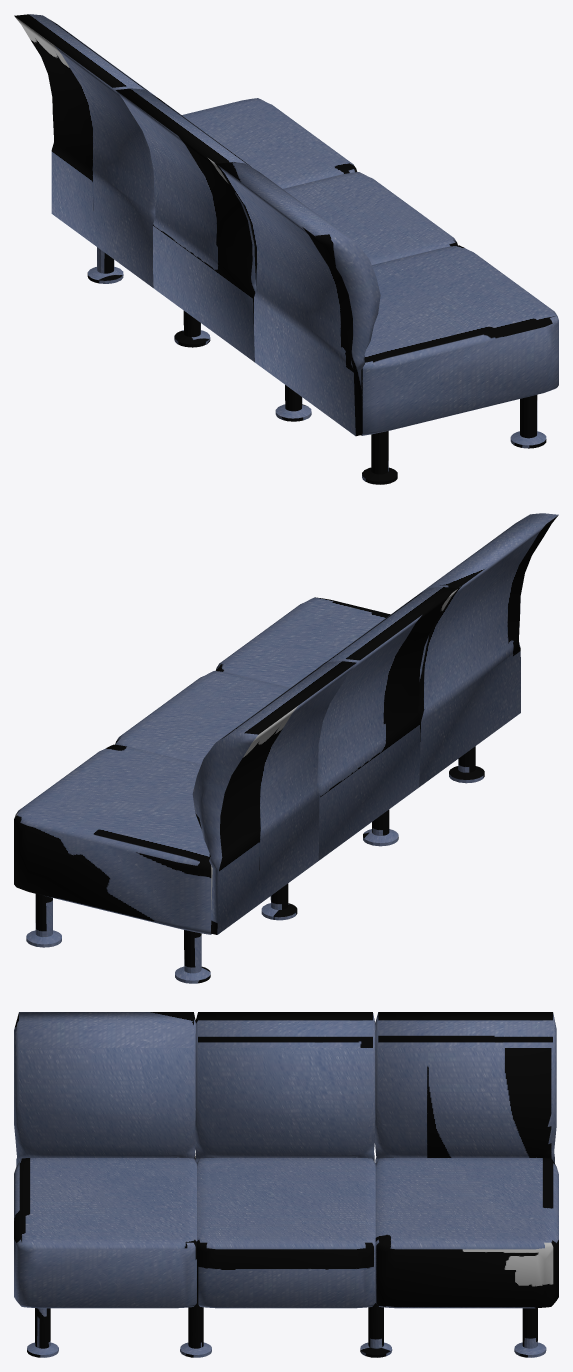
File: Bench2.fbx
3 renders of one model, top to bottom at view 1: azimuth 30°, elevation 25°; view 2: azimuth 150°, elevation 25°; view 3: azimuth 270°, elevation 25°, orthographic. The views are drawn at different scales.
Parts seen in each view (by area): view 1: Bench2; view 2: Bench2; view 3: Bench2.
Boxes of the visible parts, box(x1,y1,x2,y2) form: Bench2: box(14, 14, 558, 484); Bench2: box(14, 513, 558, 983); Bench2: box(14, 1012, 558, 1357).
Bounding box in the file's own units: 1176 × 1213 × 2493.
1 material, 1 textured.
